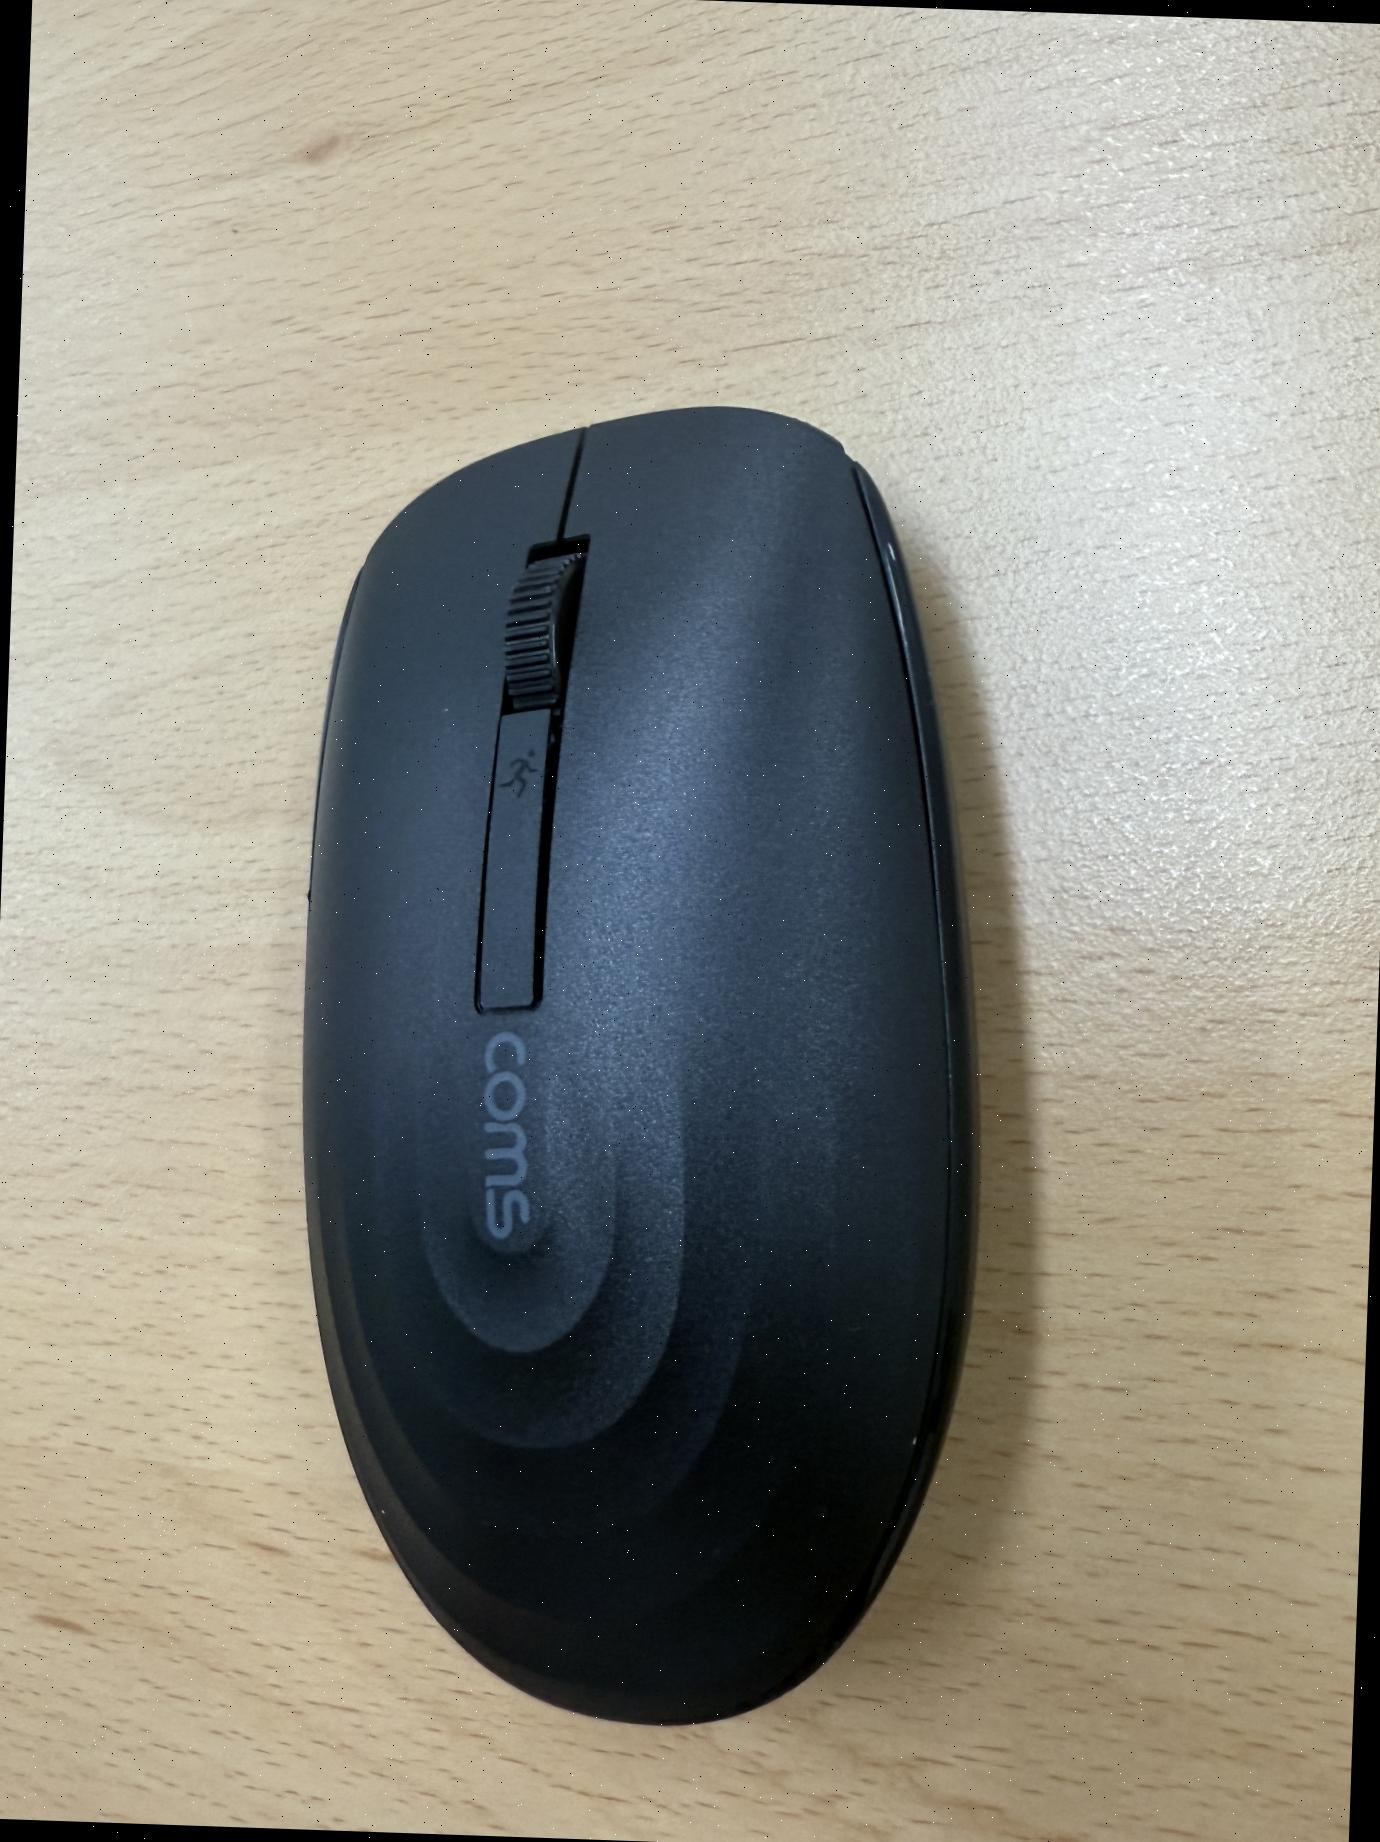front: (271, 383, 1000, 1742)
